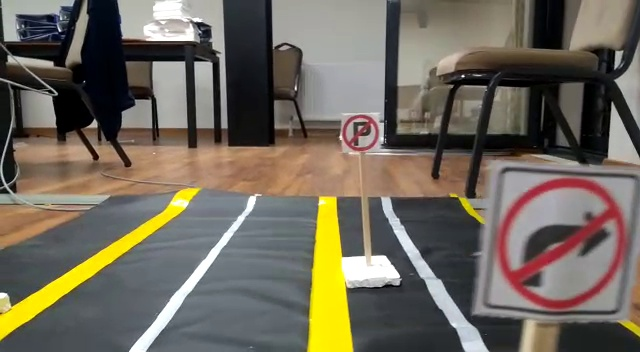park_yapilmaz: (339, 114, 382, 155)
saga_donulmez: (496, 169, 626, 312)
